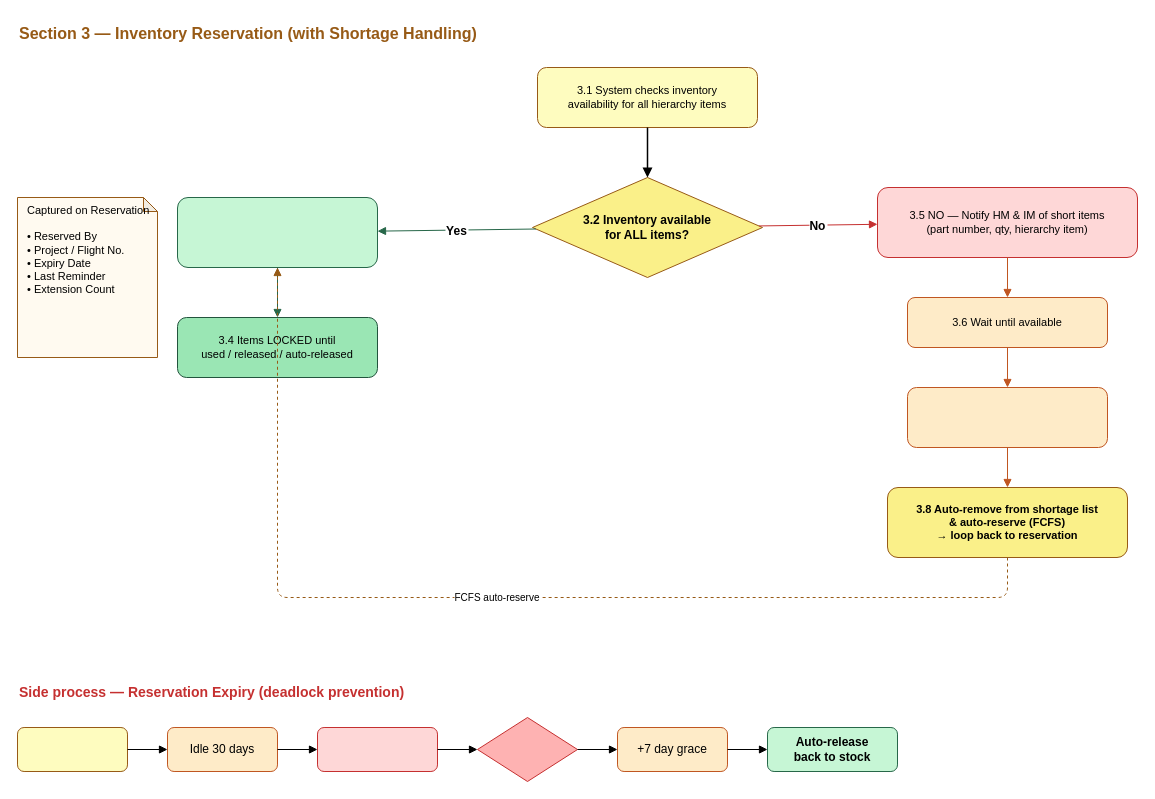
Image size: 1155x799. Some labels were removed from this diagram. The centre of each missing label's shape, as x and y in pixels:
"3.3 YES — Reserve inventory in HM name against project / flight" goes at (x=277, y=232).
"3.7 IM enters received short items into system" goes at (x=1007, y=417).
"No response" goes at (x=527, y=749).
"Reminder → HM" goes at (x=377, y=749).
"Reserved" goes at (x=72, y=749).
